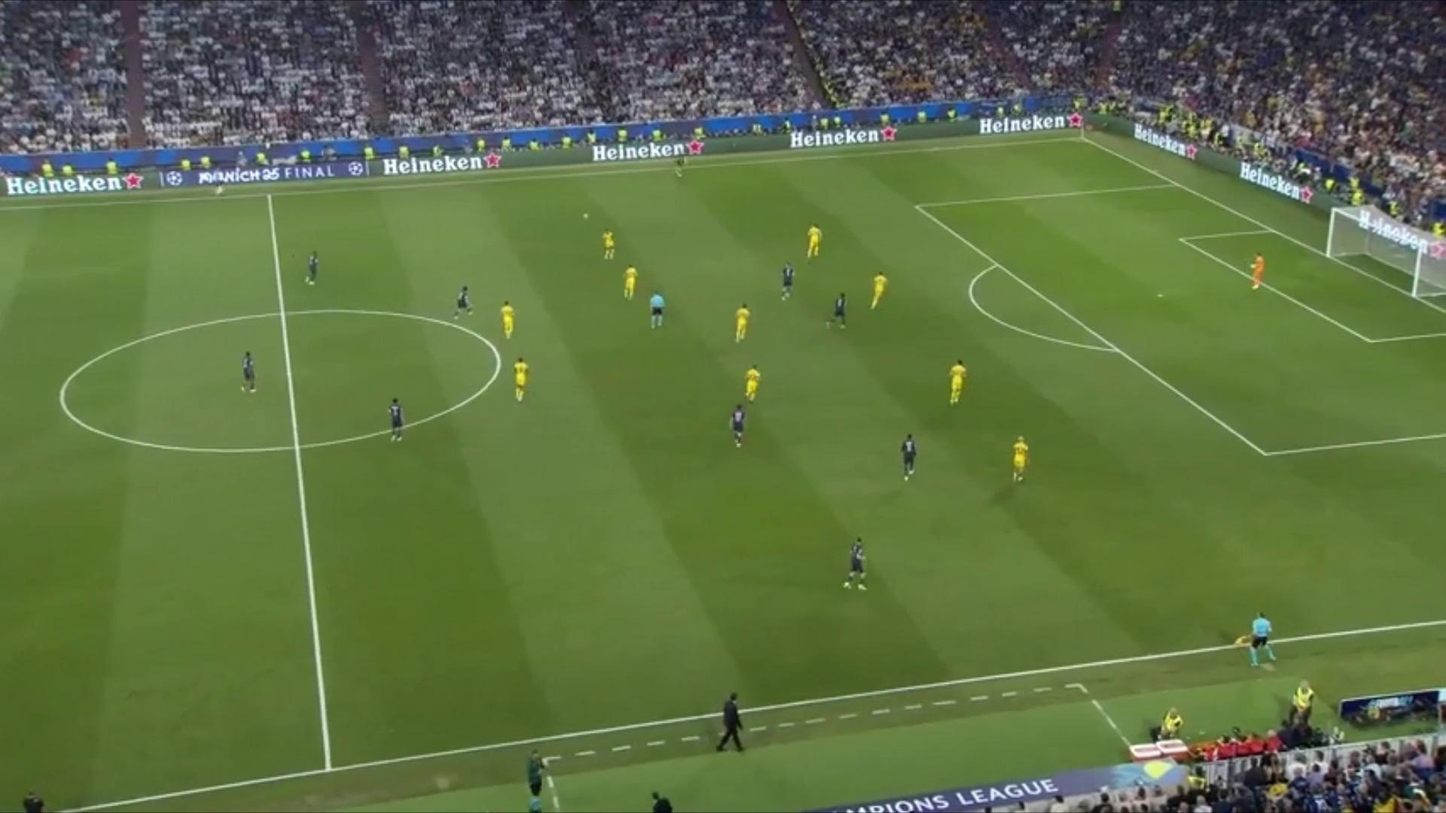ball: (578, 207, 592, 225)
player_A: (842, 533, 872, 599), (381, 395, 411, 447), (894, 431, 923, 484), (237, 345, 262, 397), (825, 288, 853, 333), (449, 278, 475, 325), (299, 247, 324, 295), (724, 402, 751, 446), (775, 260, 796, 305), (668, 145, 691, 181)
player_B: (492, 292, 523, 344), (1004, 438, 1034, 484), (945, 358, 968, 412), (509, 358, 534, 406), (801, 219, 825, 262), (597, 221, 620, 265), (739, 362, 765, 400), (868, 269, 889, 312), (733, 300, 751, 346), (618, 263, 639, 302)
player_B_goal_keeper: (1244, 247, 1270, 293)
referee: (1241, 609, 1281, 670), (518, 746, 551, 810), (642, 287, 673, 335), (206, 163, 227, 197)
